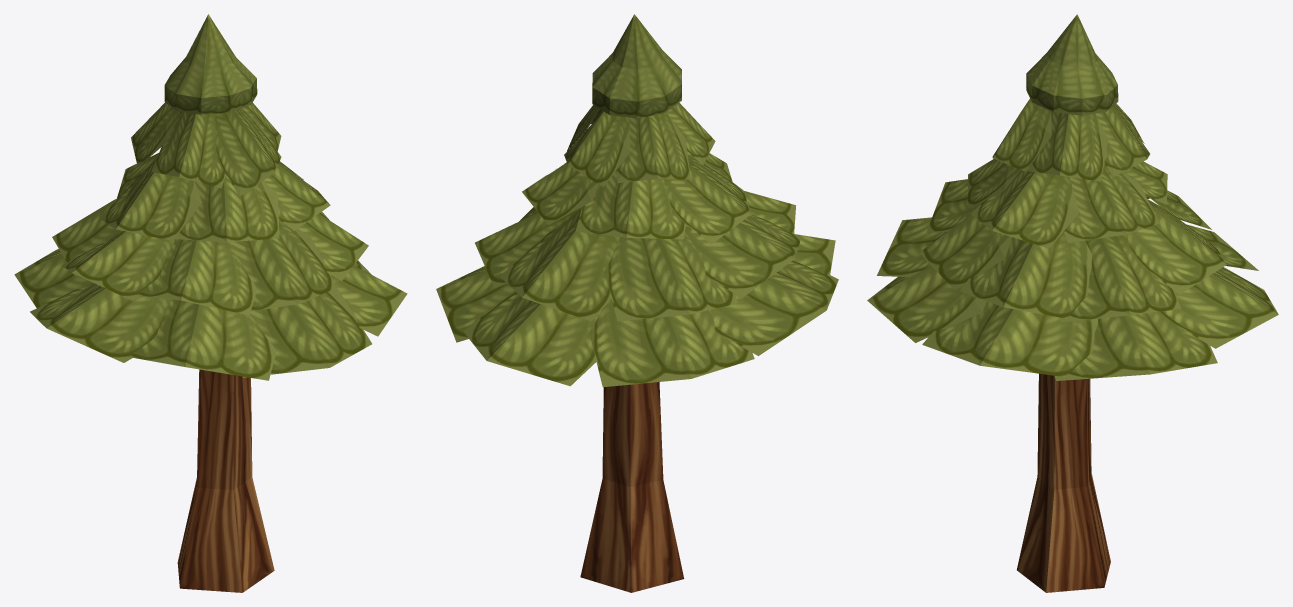
File: N6TIYZO5D41STEOW4SQBKWRRG.fbx
3 views of the same model, side by side, from view 1: azimuth 30°, elevation 25°; view 2: azimuth 150°, elevation 25°; view 3: azimuth 270°, elevation 25° (orthographic).
Visible parts, largest first — view 1: Object_farm_trees_rocks_flowers_D.jpg; view 2: Object_farm_trees_rocks_flowers_D.jpg; view 3: Object_farm_trees_rocks_flowers_D.jpg.
Part boxes in pixels (left/top/right/bottom): Object_farm_trees_rocks_flowers_D.jpg: left=14, top=14, right=407, bottom=592; Object_farm_trees_rocks_flowers_D.jpg: left=436, top=14, right=838, bottom=592; Object_farm_trees_rocks_flowers_D.jpg: left=867, top=14, right=1278, bottom=592.
Size of the model in its own units: 1.58 by 2.5 by 1.68.
